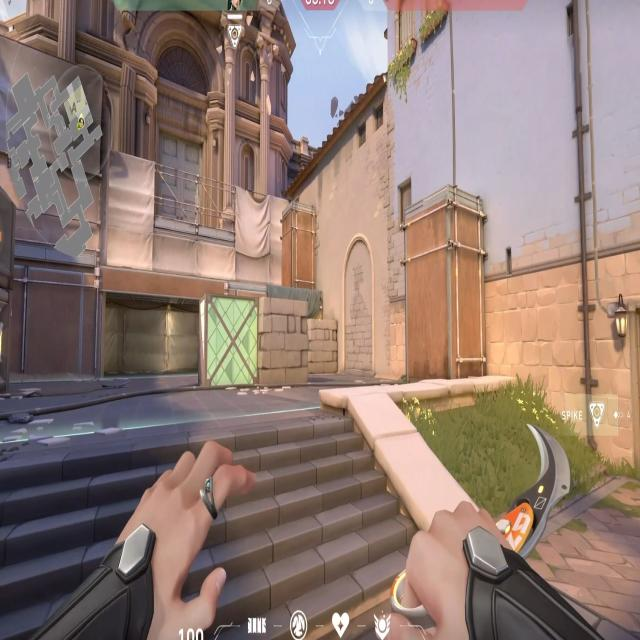A_Heaven_Box: (279, 197, 319, 289)
A_Heaven_Wall: (15, 32, 116, 274)
A_Hell: (93, 254, 200, 379)
A_Site_Box: (196, 287, 317, 391)
